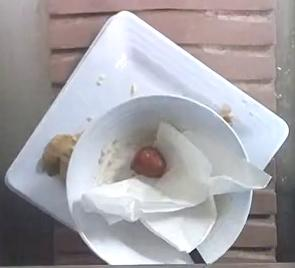potato: (131, 146, 166, 177)
